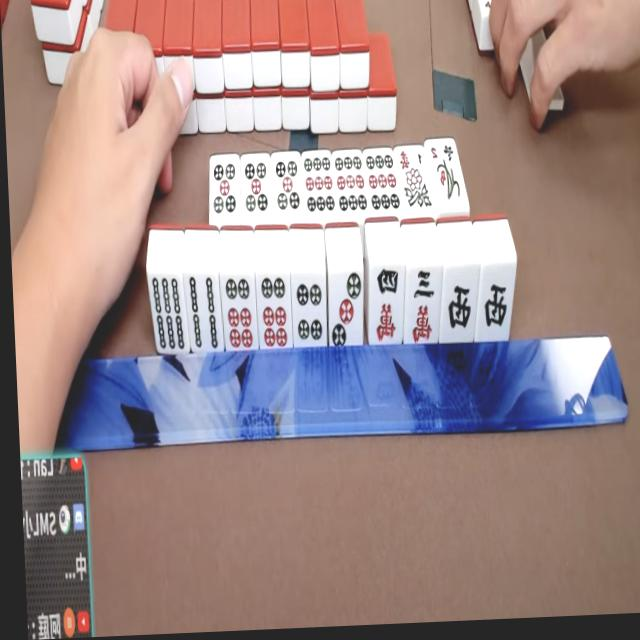m3: (401, 265, 444, 344)
m4: (365, 263, 408, 346)
s4: (187, 274, 222, 352)
s9: (145, 272, 189, 356)
t3: (325, 269, 365, 347)
t4: (289, 269, 327, 346)
t5: (206, 155, 242, 224), (270, 150, 303, 224), (239, 153, 273, 221)
t6: (255, 272, 292, 351), (219, 274, 256, 352)
t9: (332, 151, 368, 223), (361, 147, 399, 213), (300, 152, 334, 220)
west: (469, 262, 518, 342), (439, 261, 480, 343)
